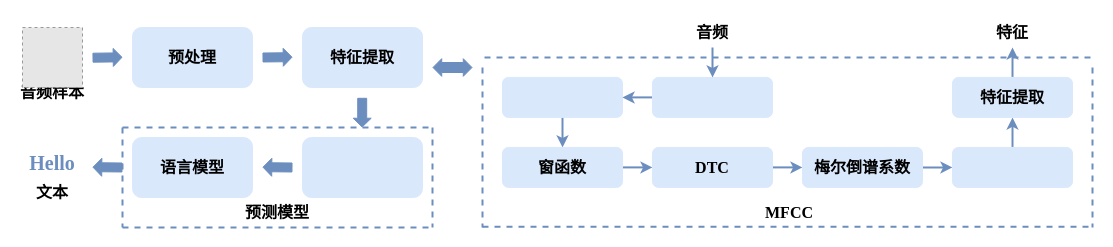
The diagram is 1113 pixels wide and 247 high, and some of its shapes have lost their labels. Grey dashed boxes stand in for pictures. The box of each missing label's shape, as (x1, y1, x2, y2) in pixels:
声学模型: (302, 136, 422, 198)
帧分割: (502, 76, 622, 117)
离散余弦变换: (952, 146, 1072, 187)
高频预放大: (652, 76, 772, 117)
